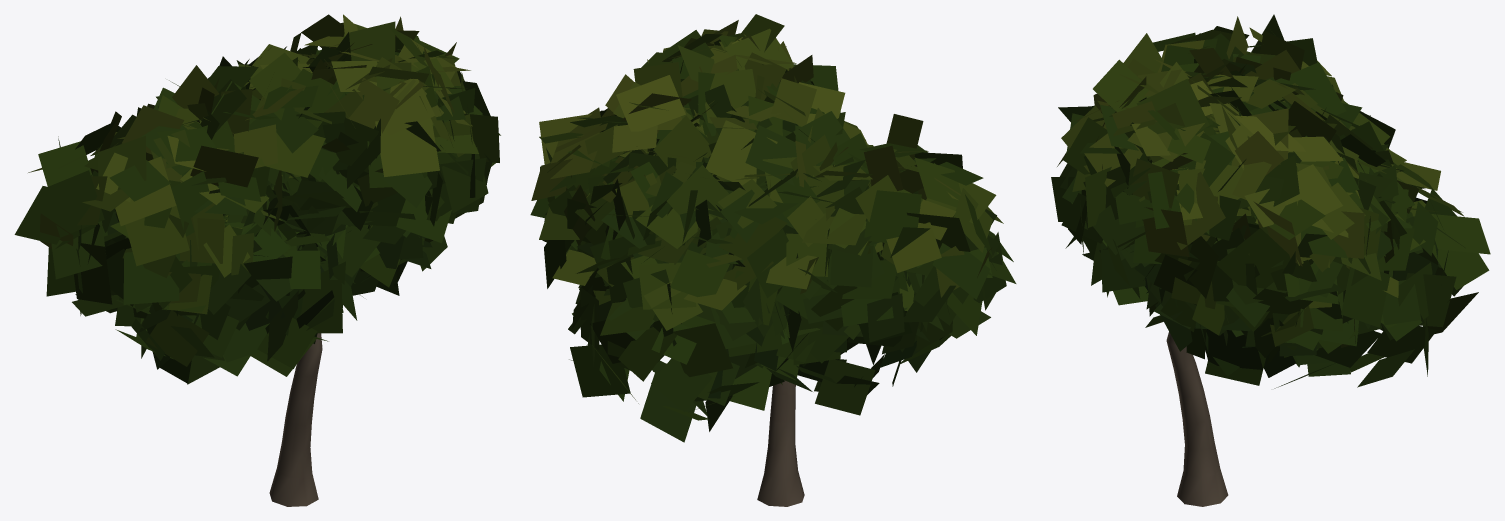
Rendered from PLN_Broadleaf_Round.fbx.
3 views of the same model, side by side, from view 1: azimuth 30°, elevation 25°; view 2: azimuth 150°, elevation 25°; view 3: azimuth 270°, elevation 25° (orthographic). The views are drawn at different scales.
Visible parts, largest first — view 1: PLN_Broadleaf_Round; view 2: PLN_Broadleaf_Round; view 3: PLN_Broadleaf_Round.
Part boxes in pixels (x1,y1,x2,y2): PLN_Broadleaf_Round: [14, 14, 500, 506]; PLN_Broadleaf_Round: [530, 14, 1016, 506]; PLN_Broadleaf_Round: [1051, 14, 1490, 506].
Bounding box in the file's own units: 9.91 × 9.46 × 8.31.
